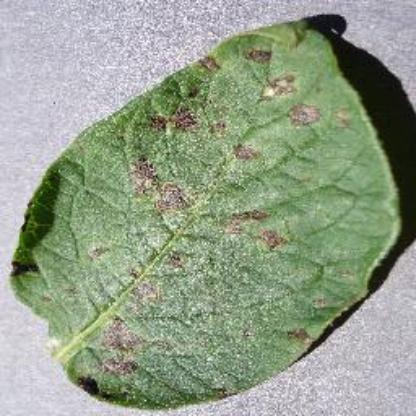Early-Blight: (11, 0, 410, 416)
